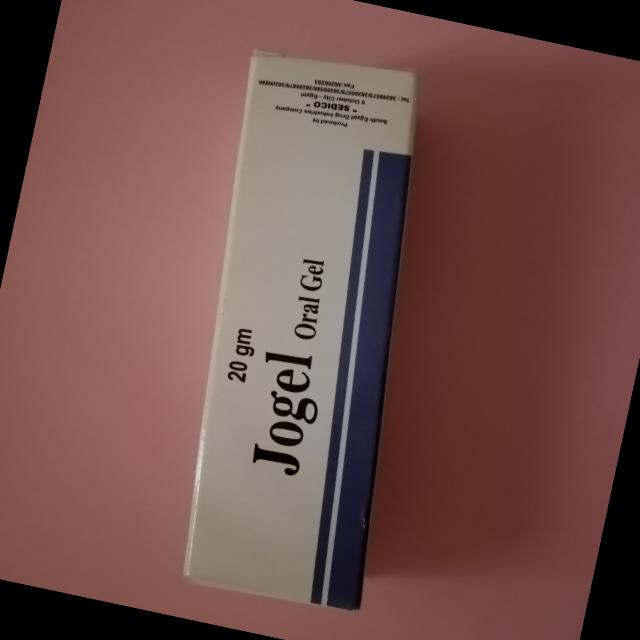medicine_packaging: (123, 25, 502, 640)
